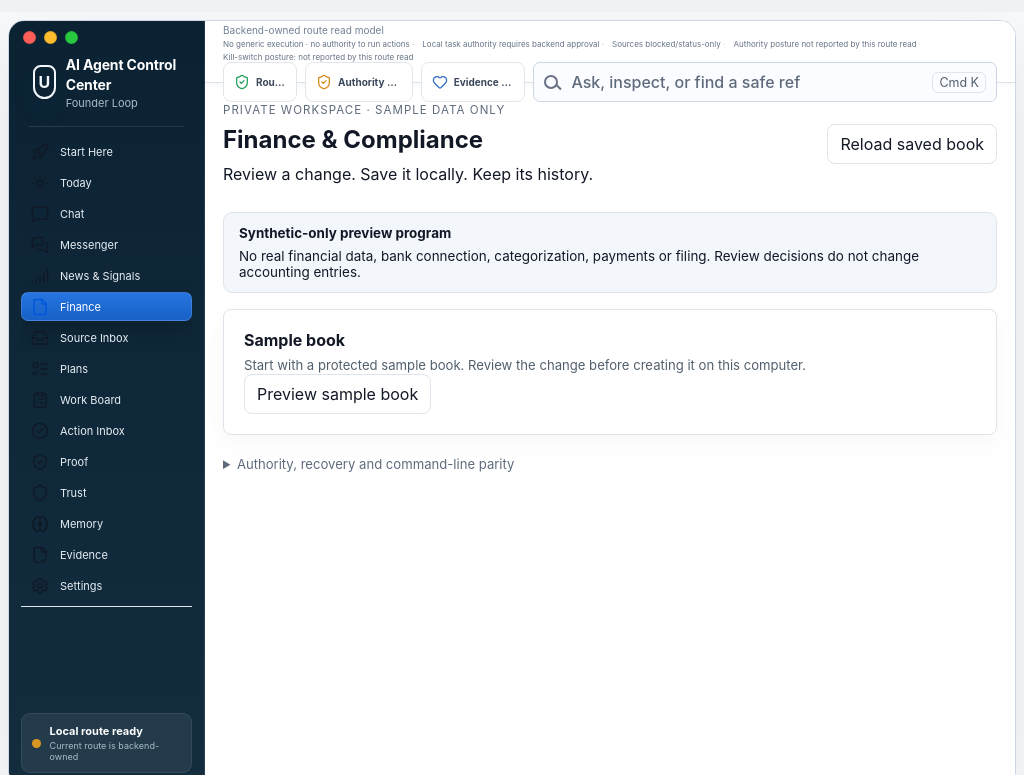
Finance workspace › allows an expired unsubmitted create preview to be closed and prepared again
Click the button "Preview sample book".
click(338, 394)  # box left=244, top=374, right=431, bottom=414
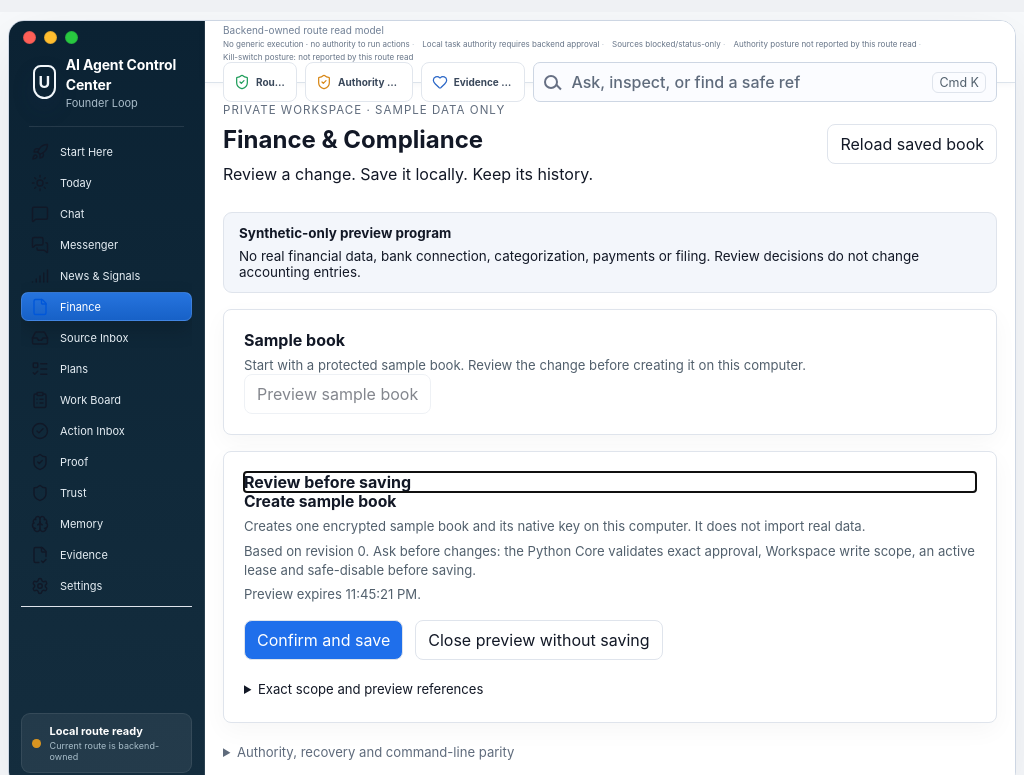
Now the heading "Review before saving" is shown, box left=244, top=472, right=411, bottom=492
Click the button "Confirm and save".
click(324, 640)  # box left=244, top=620, right=403, bottom=660
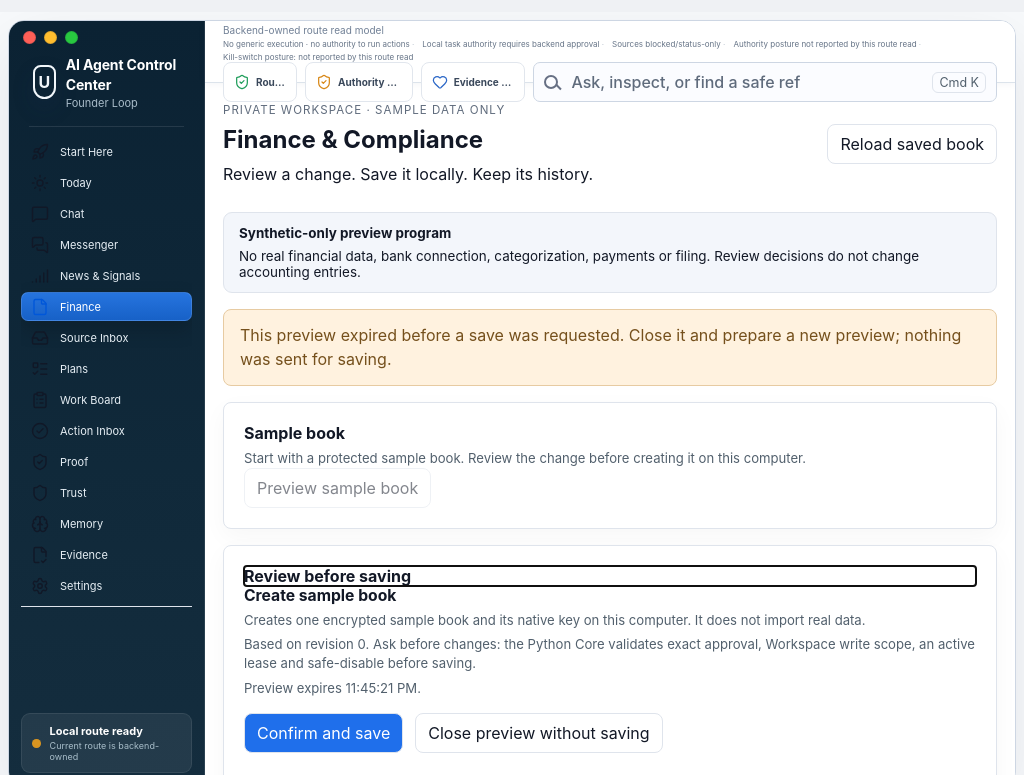
Now the button "Close preview without saving" is enabled
Now the text "preview expired before a save was requested" is shown, box left=240, top=325, right=961, bottom=369
Click the button "Close preview without saving".
click(539, 733)  # box left=415, top=713, right=663, bottom=753
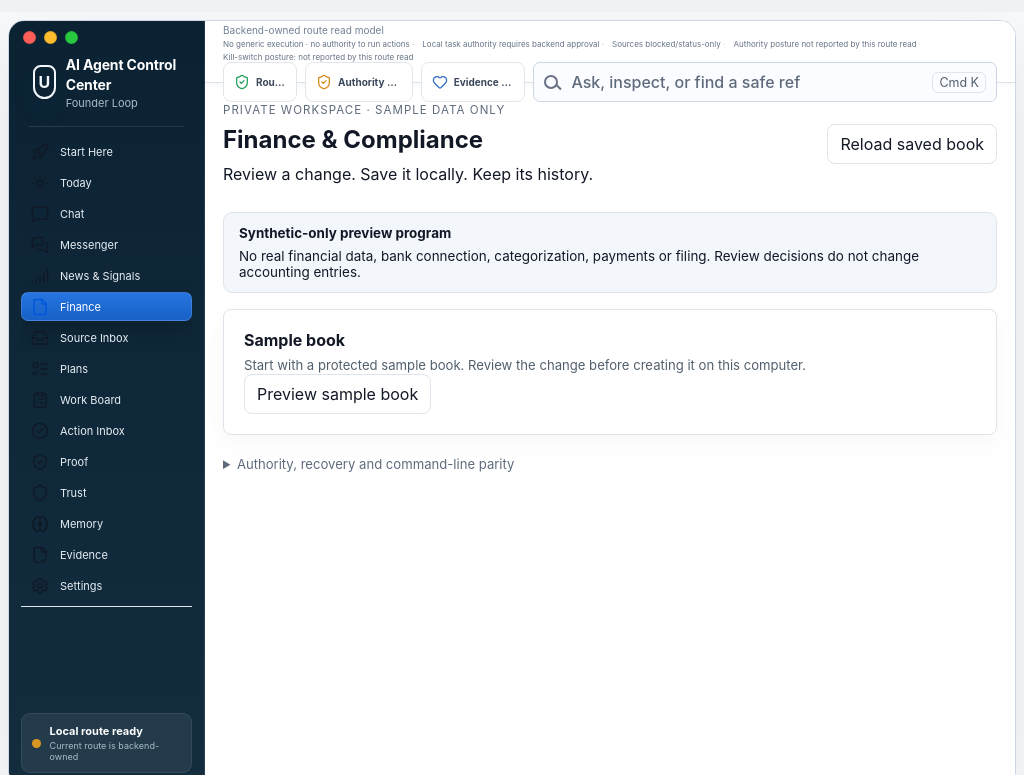
Click the button "Preview sample book".
click(338, 394)  # box left=244, top=374, right=431, bottom=414
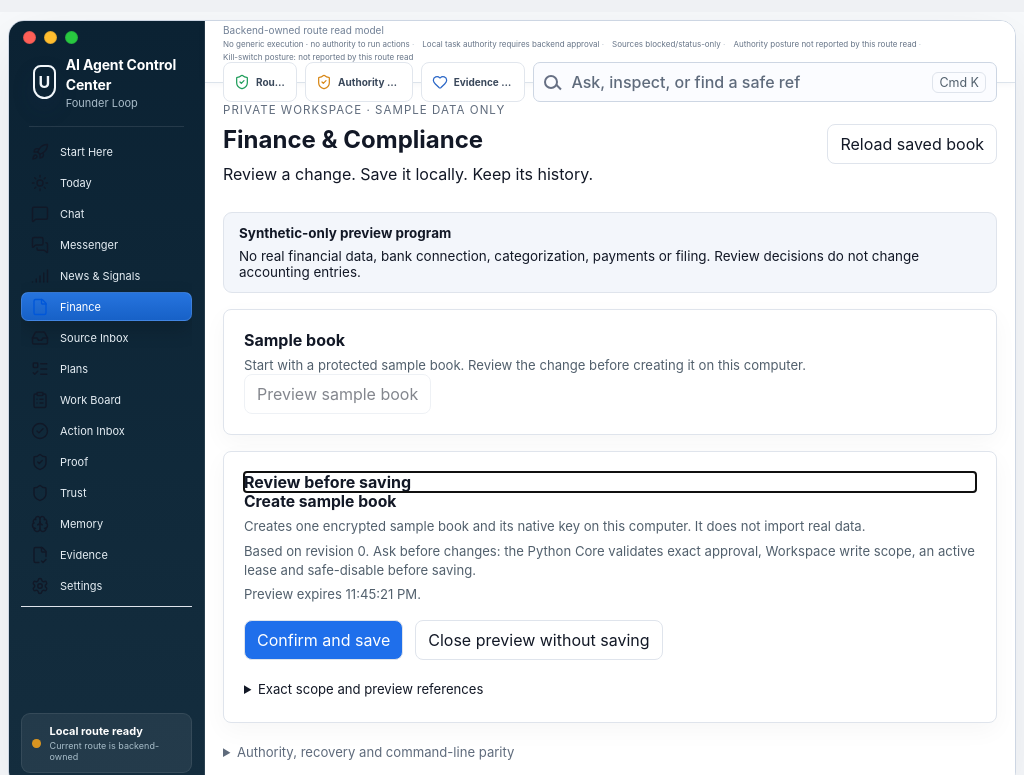
Now the heading "Review before saving" is shown, box left=244, top=472, right=411, bottom=492
